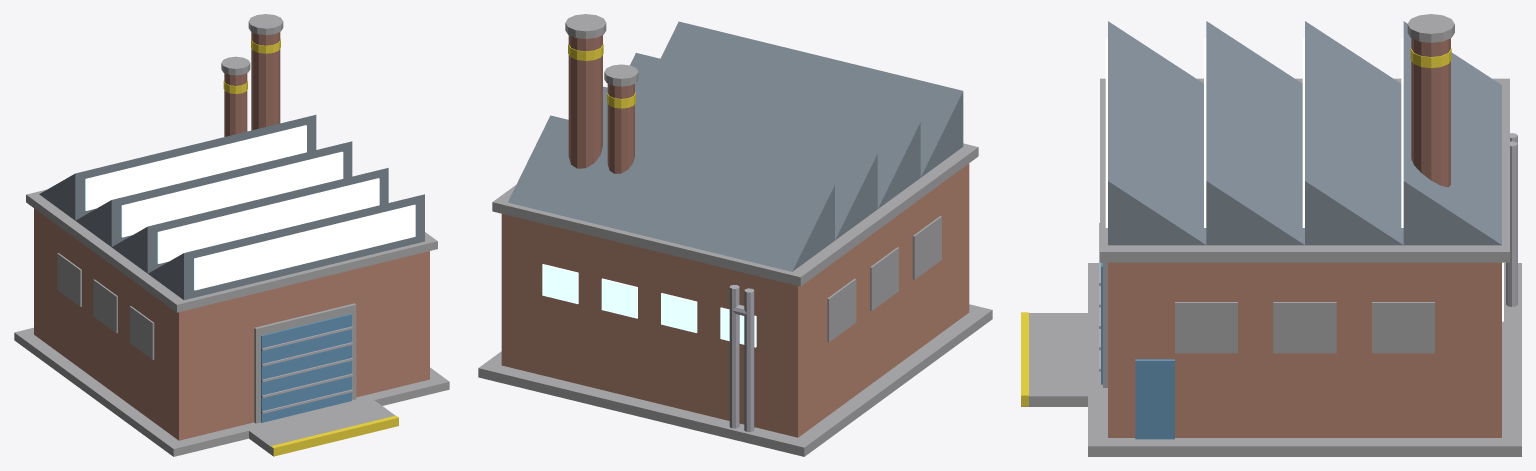
Rendered from factory.glb.
3 renders of one model, left to right at view 1: azimuth 30°, elevation 25°; view 2: azimuth 150°, elevation 25°; view 3: azimuth 270°, elevation 25°, orthographic. The views are drawn at different scales.
Parts seen in each view (by area): view 1: Factory; view 2: Factory; view 3: Factory.
Part boxes in pixels (x1,y1,x2,y2): Factory: (14, 14, 449, 456); Factory: (478, 14, 992, 456); Factory: (1021, 14, 1521, 456).
Size of the model in its own units: 11 by 11.05 by 12.7.
